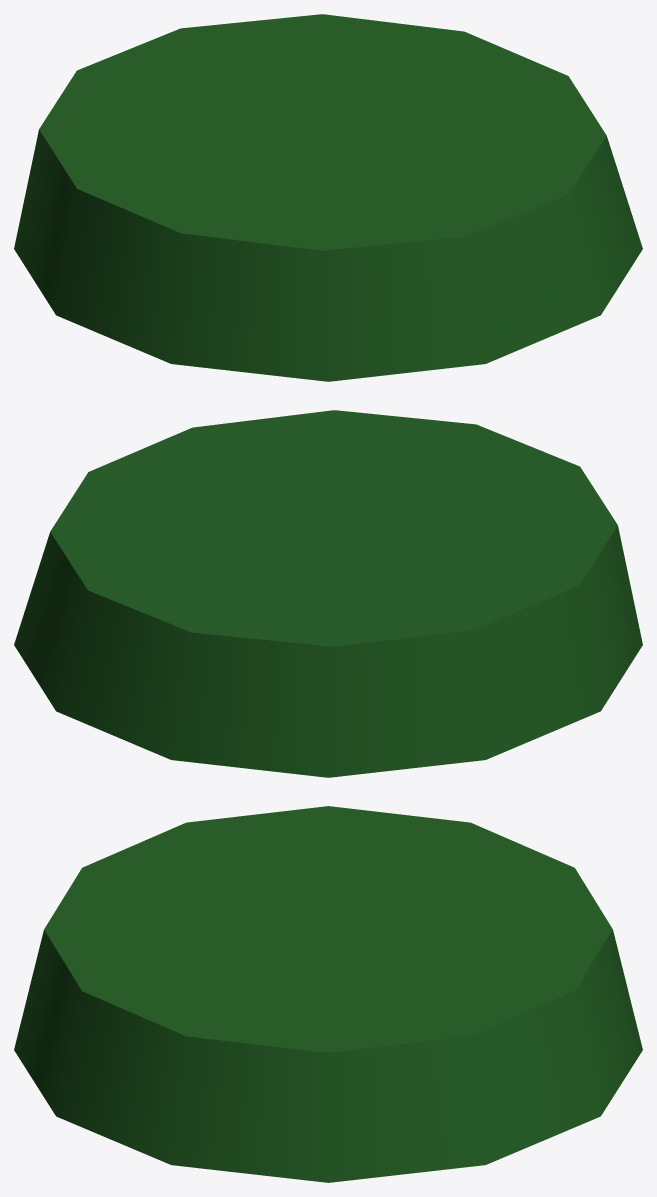
File: thorned_weeds_bottom.fbx
3 views of the same model, one above another, from view 1: azimuth 30°, elevation 25°; view 2: azimuth 150°, elevation 25°; view 3: azimuth 270°, elevation 25° (orthographic).
Visible parts, largest first — view 1: ThornedWeed_Bottom; view 2: ThornedWeed_Bottom; view 3: ThornedWeed_Bottom.
Part boxes in pixels (x1,y1,x2,y2): ThornedWeed_Bottom: (14,14,642,381); ThornedWeed_Bottom: (14,410,642,777); ThornedWeed_Bottom: (14,806,642,1182).
Bounding box in the file's own units: 41.14 × 8.75 × 41.14.
